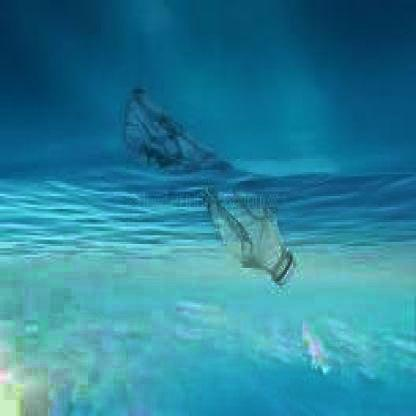pbottle: (115, 78, 300, 296)
